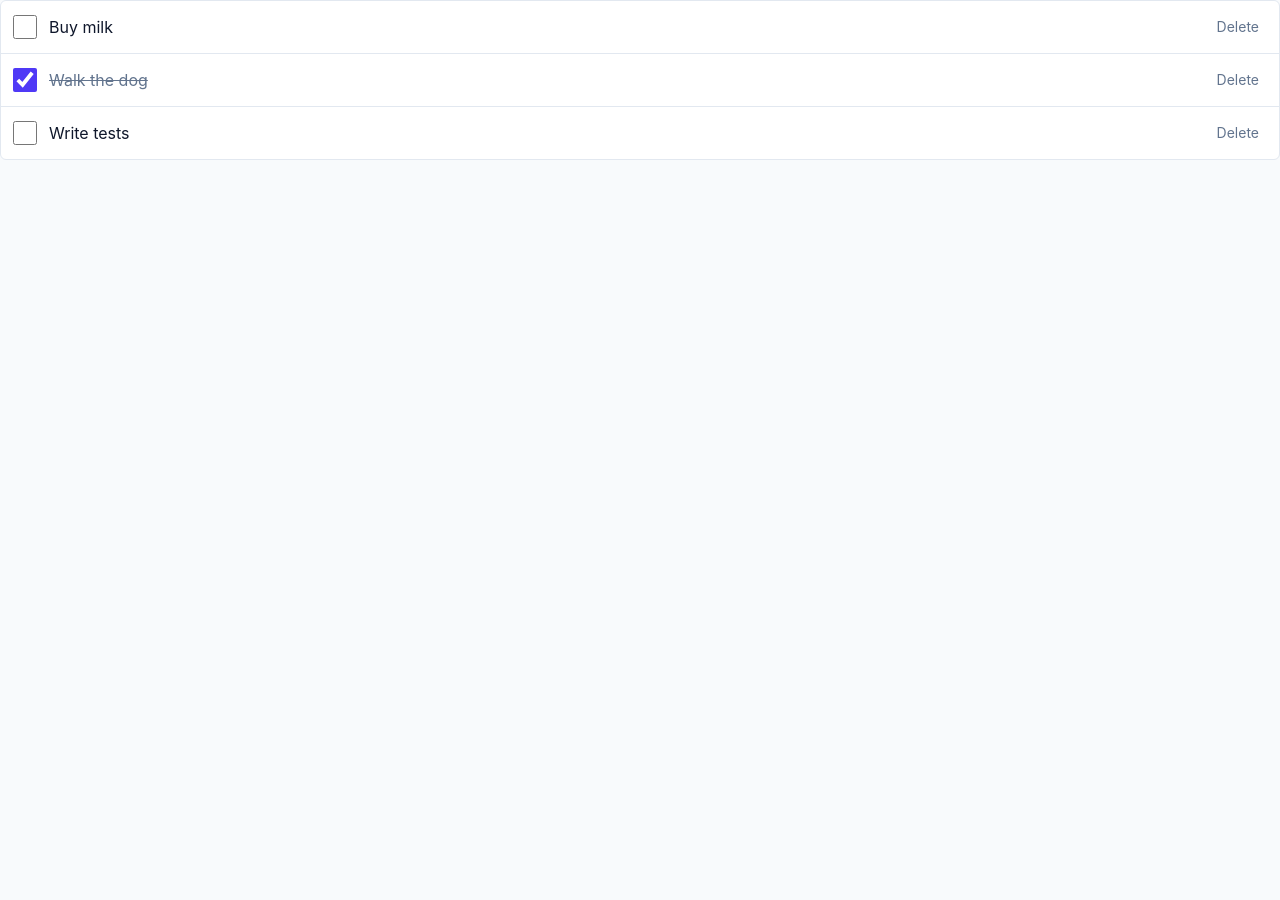
TaskList › focus after delete › focuses the next task checkbox when a middle task is deleted
Click the button "Delete" in the row of "Walk the dog".
click(1238, 80)  # box [1209,66,1267,94]
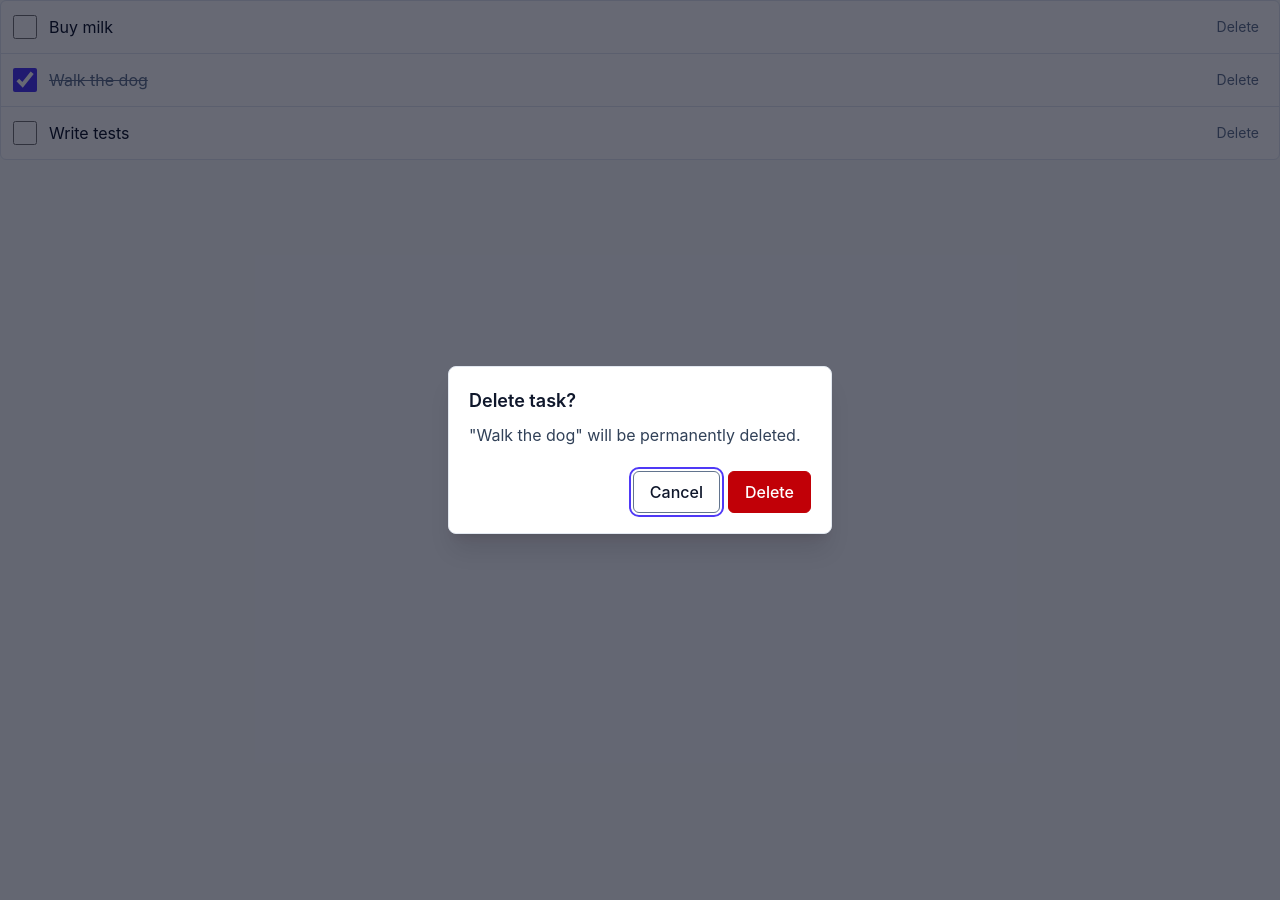
Click the button "Delete".
click(769, 492)  # box [728,471,811,513]
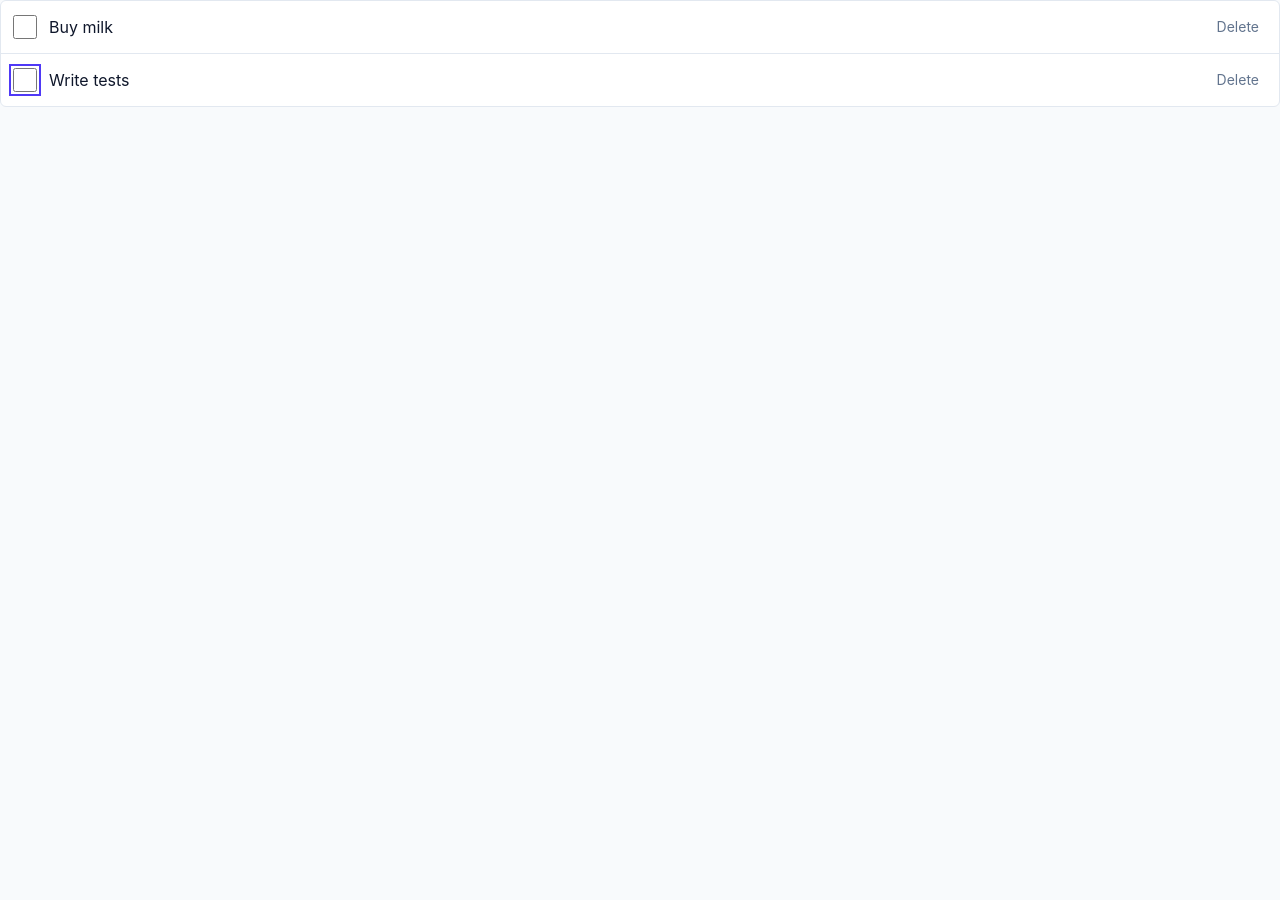
Check: the label "Walk the dog" is gone
